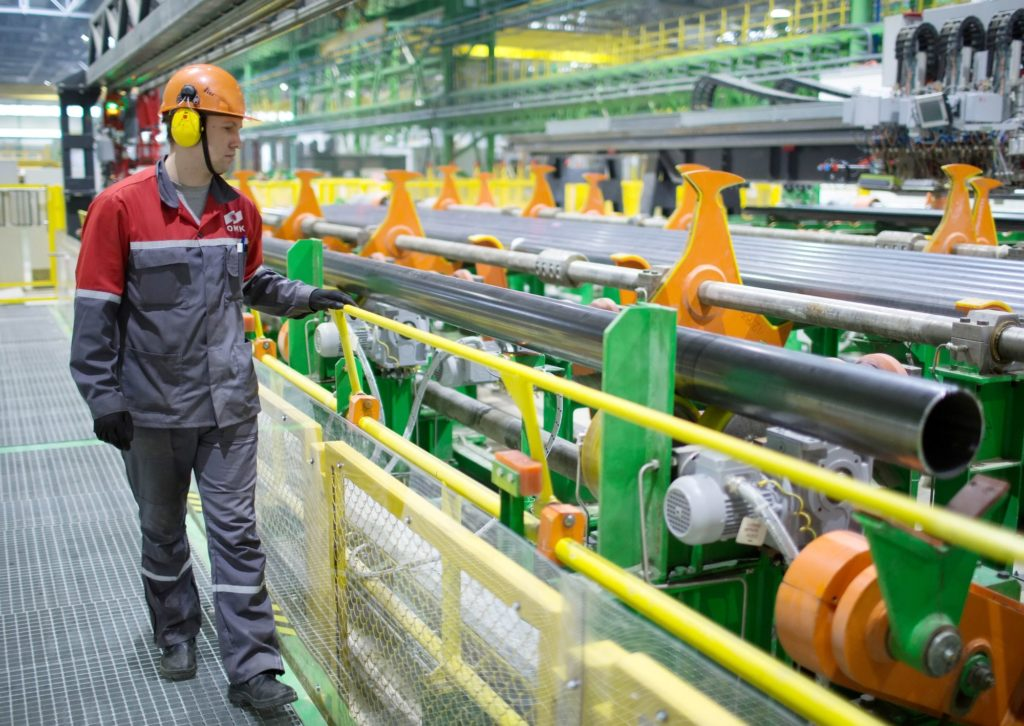person: (68, 63, 356, 710)
